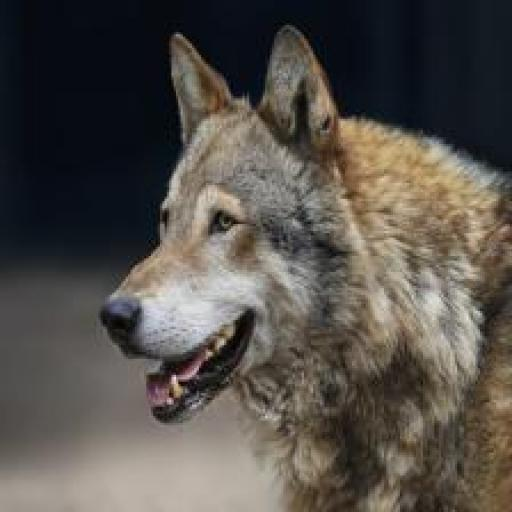wolf: (98, 11, 511, 511)
